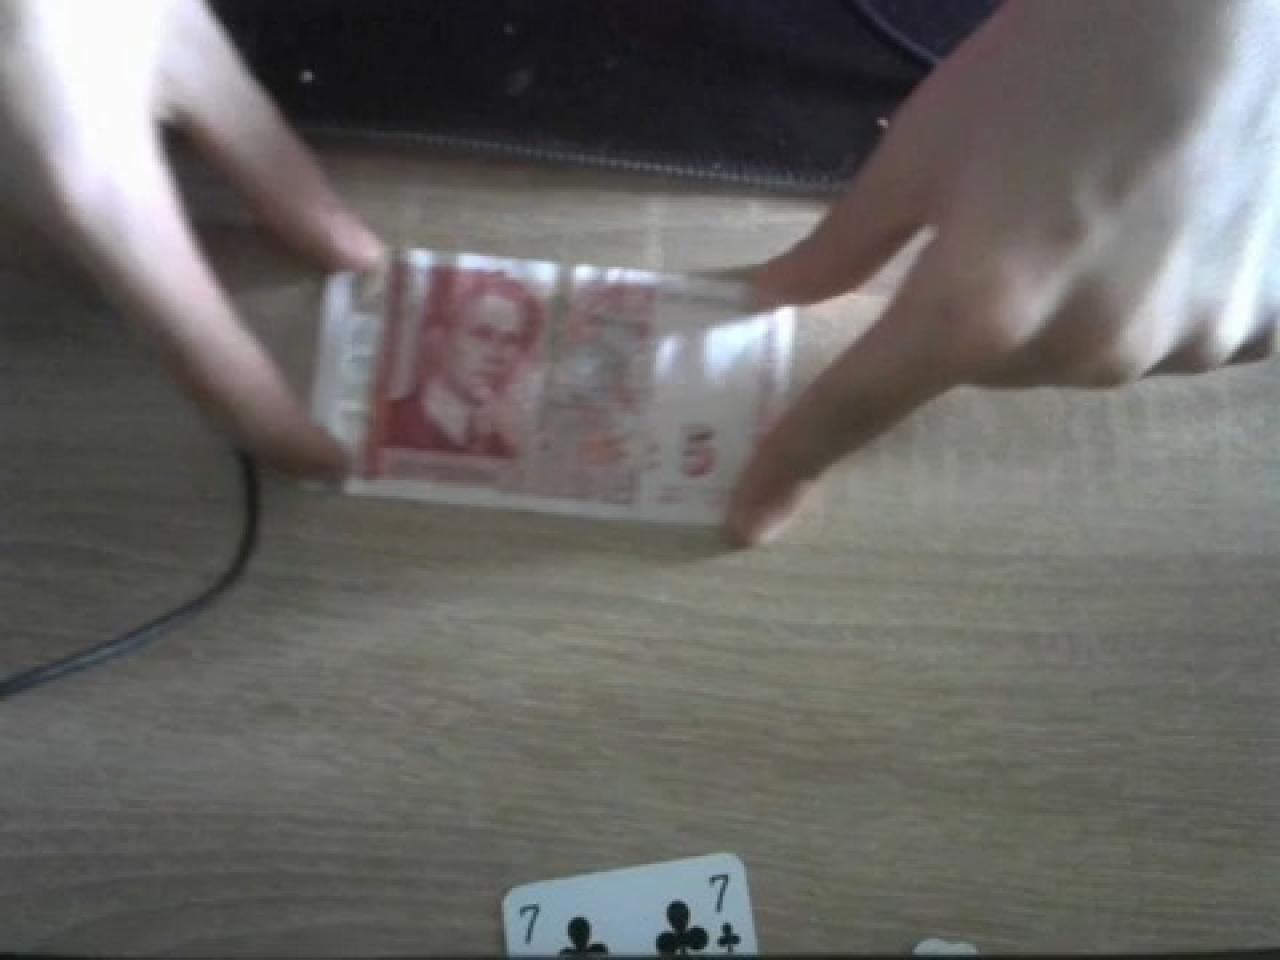5leva: (387, 261, 549, 472)
